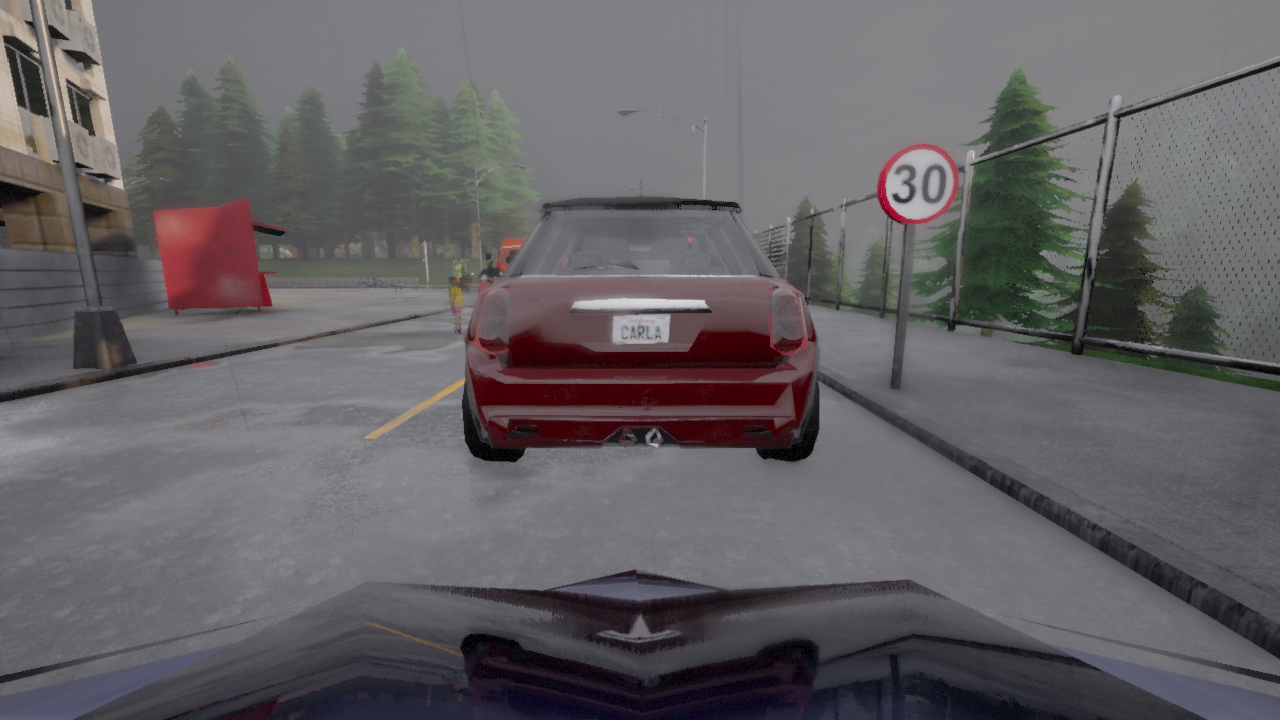cyclist: (0, 569, 1279, 719), (461, 180, 819, 461), (485, 238, 525, 273), (470, 272, 502, 300), (356, 273, 383, 288)
pedestrian: (449, 274, 465, 334), (439, 264, 445, 285)
